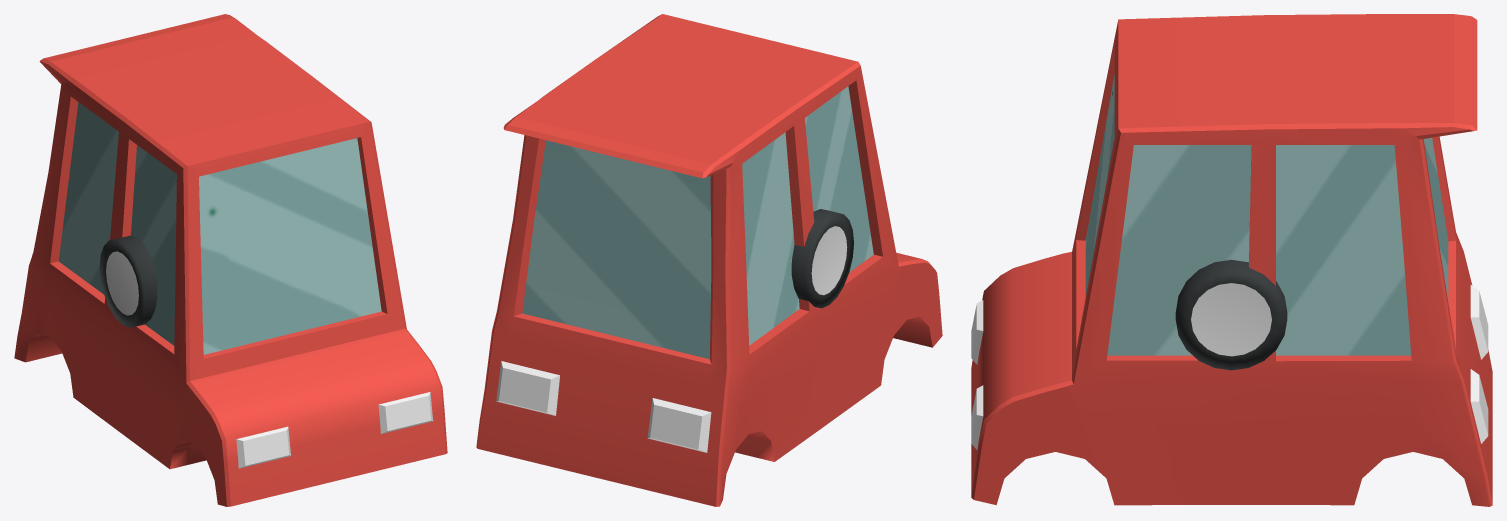
File: car_6_R.fbx
The picture shows the model from 3 angles, left to right: view 1: azimuth 30°, elevation 25°; view 2: azimuth 150°, elevation 25°; view 3: azimuth 270°, elevation 25°; orthographic projection. The views are drawn at different scales.
Parts seen in each view (by area): view 1: car_6_chasis_R, car_6_right_wheel_R, car_6_back_wheel_R; view 2: car_6_chasis_R, car_6_right_wheel_R; view 3: car_6_chasis_R, car_6_back_wheel_R, car_6_left_wheel_R.
Part boxes in pixels (bbox=[...]): car_6_chasis_R: bbox=[14, 14, 447, 506]; car_6_right_wheel_R: bbox=[99, 235, 157, 327]; car_6_back_wheel_R: bbox=[113, 239, 157, 326]; car_6_chasis_R: bbox=[476, 14, 942, 506]; car_6_right_wheel_R: bbox=[791, 209, 853, 308]; car_6_chasis_R: bbox=[971, 14, 1492, 506]; car_6_back_wheel_R: bbox=[1175, 261, 1287, 370]; car_6_left_wheel_R: bbox=[1175, 259, 1287, 315].
Bounding box in the file's own units: 98.97 × 126 × 161.
